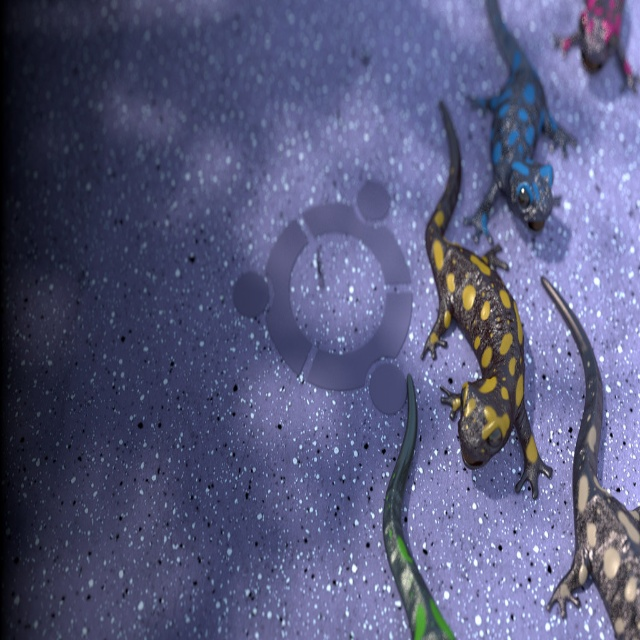Lizard: (420, 100, 549, 496), (549, 266, 640, 636)
